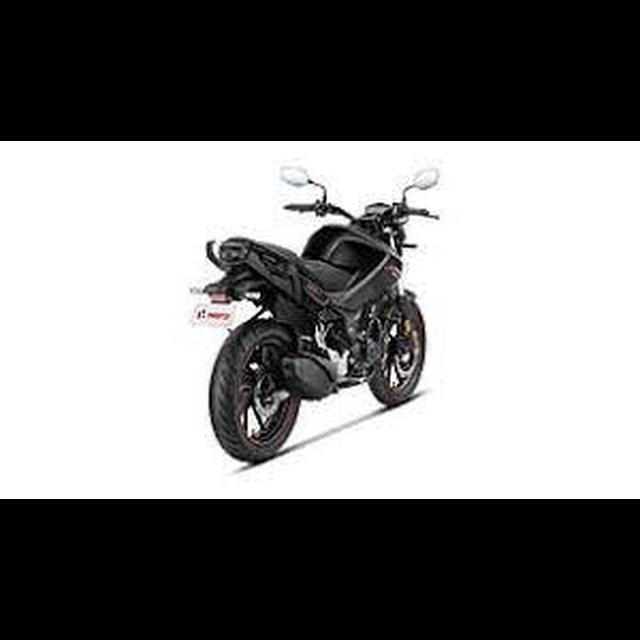motorcycle: (179, 159, 446, 469)
